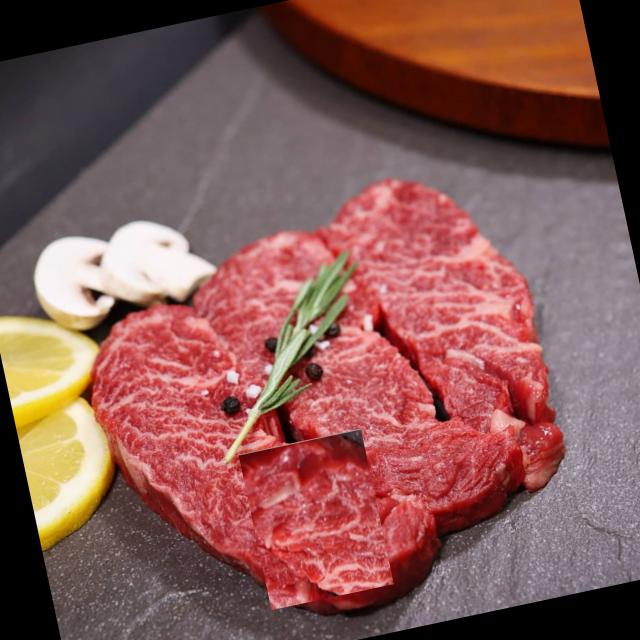beef: (340, 298, 538, 528), (238, 428, 394, 610)
